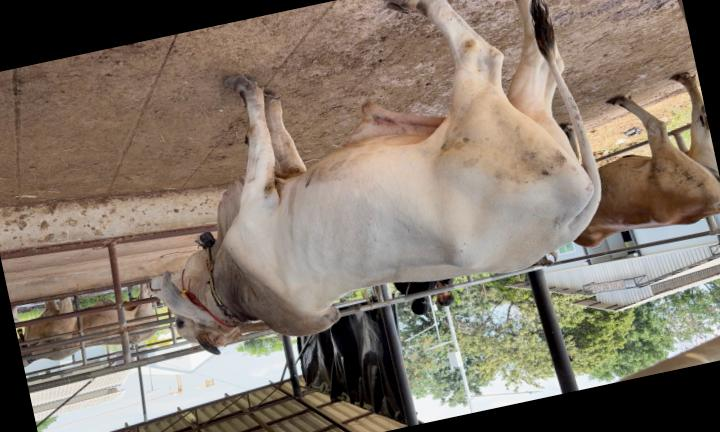Brahman: (152, 0, 601, 353)
